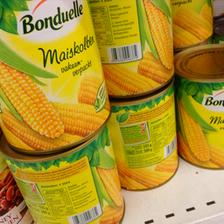Mais: (0, 0, 112, 156), (3, 126, 127, 222), (87, 0, 176, 96), (103, 82, 179, 190), (170, 43, 222, 169)
